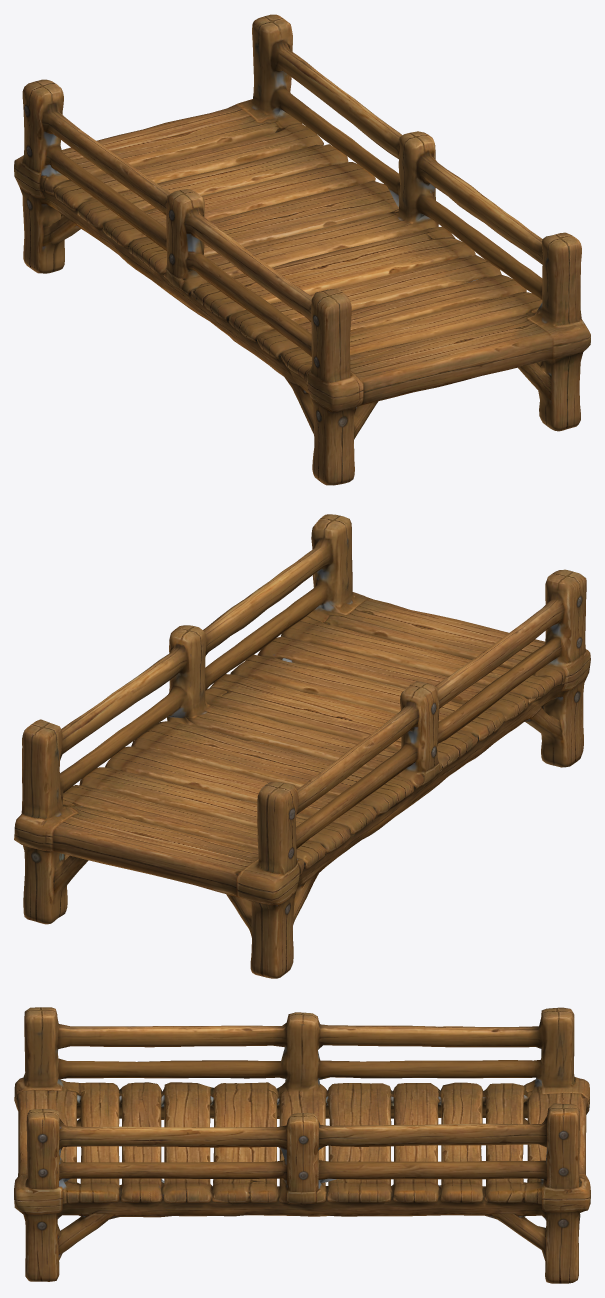
Rendered from wood_bridge.glb.
The picture shows the model from 3 angles, top to bottom: view 1: azimuth 30°, elevation 25°; view 2: azimuth 150°, elevation 25°; view 3: azimuth 270°, elevation 25°; orthographic projection. The views are drawn at different scales.
Visible parts, largest first — view 1: tripo_node_0bd9caee; view 2: tripo_node_0bd9caee; view 3: tripo_node_0bd9caee.
Part boxes in pixels (bbox=[...]): tripo_node_0bd9caee: bbox=[14, 14, 590, 485]; tripo_node_0bd9caee: bbox=[14, 514, 590, 978]; tripo_node_0bd9caee: bbox=[14, 1007, 590, 1283].
Bounding box in the file's own units: 46.6 × 32.17 × 97.92.
Materials: 1 (1 with a texture image).
